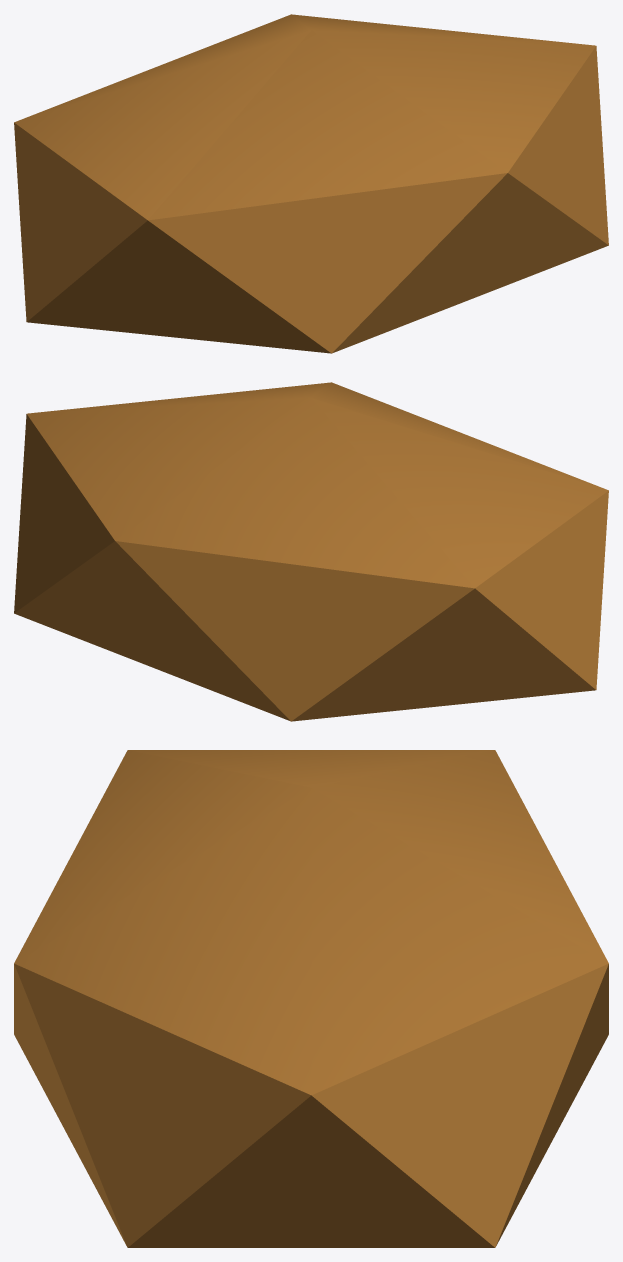
File: good_5.glb
The picture shows the model from 3 angles, top to bottom: view 1: azimuth 30°, elevation 25°; view 2: azimuth 150°, elevation 25°; view 3: azimuth 270°, elevation 25°; orthographic projection. The views are drawn at different scales.
Parts seen in each view (by area): view 1: good_5; view 2: good_5; view 3: good_5.
Part boxes in pixels (left/top/right/bottom): good_5: left=14, top=14, right=608, bottom=353; good_5: left=14, top=382, right=608, bottom=721; good_5: left=14, top=750, right=608, bottom=1247.
Size of the model in its own units: 0.1395 by 0.072 by 0.0919.
